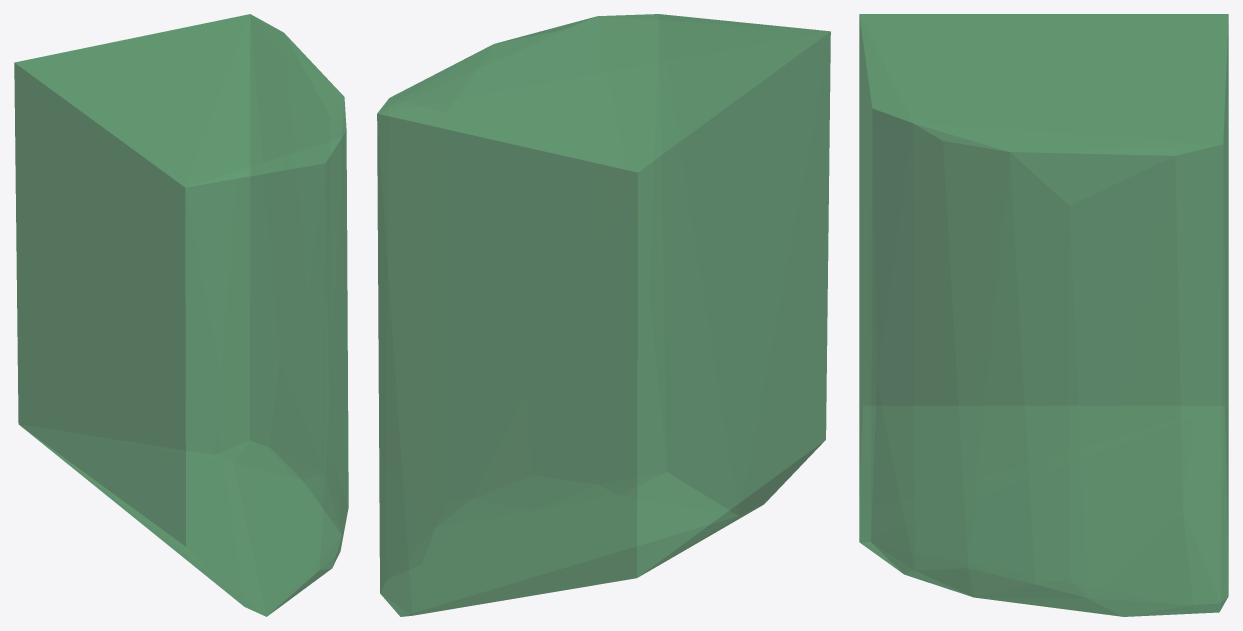
The picture shows the model from 3 angles, left to right: view 1: azimuth 30°, elevation 25°; view 2: azimuth 150°, elevation 25°; view 3: azimuth 270°, elevation 25°; orthographic projection. The views are drawn at different scales.
Visible parts, largest first — view 1: Shape_IndexedFaceSet.008_Shape_IndexedFaceSet.1759; view 2: Shape_IndexedFaceSet.008_Shape_IndexedFaceSet.1759; view 3: Shape_IndexedFaceSet.008_Shape_IndexedFaceSet.1759.
Boxes of the visible parts, x1,y1,x2,y2 form: Shape_IndexedFaceSet.008_Shape_IndexedFaceSet.1759: [14, 14, 348, 616]; Shape_IndexedFaceSet.008_Shape_IndexedFaceSet.1759: [377, 14, 830, 616]; Shape_IndexedFaceSet.008_Shape_IndexedFaceSet.1759: [859, 14, 1228, 616].
Bounding box in the file's own units: 0.1193 × 0.2091 × 0.1442.
